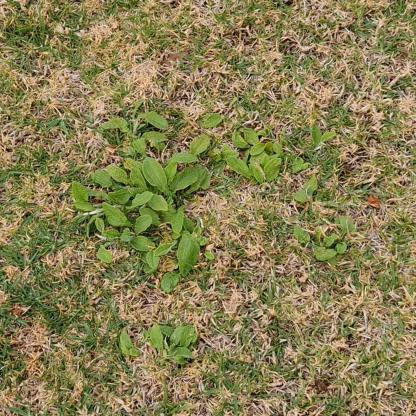Weeds: (71, 98, 337, 294), (293, 173, 355, 263), (119, 322, 199, 365)
